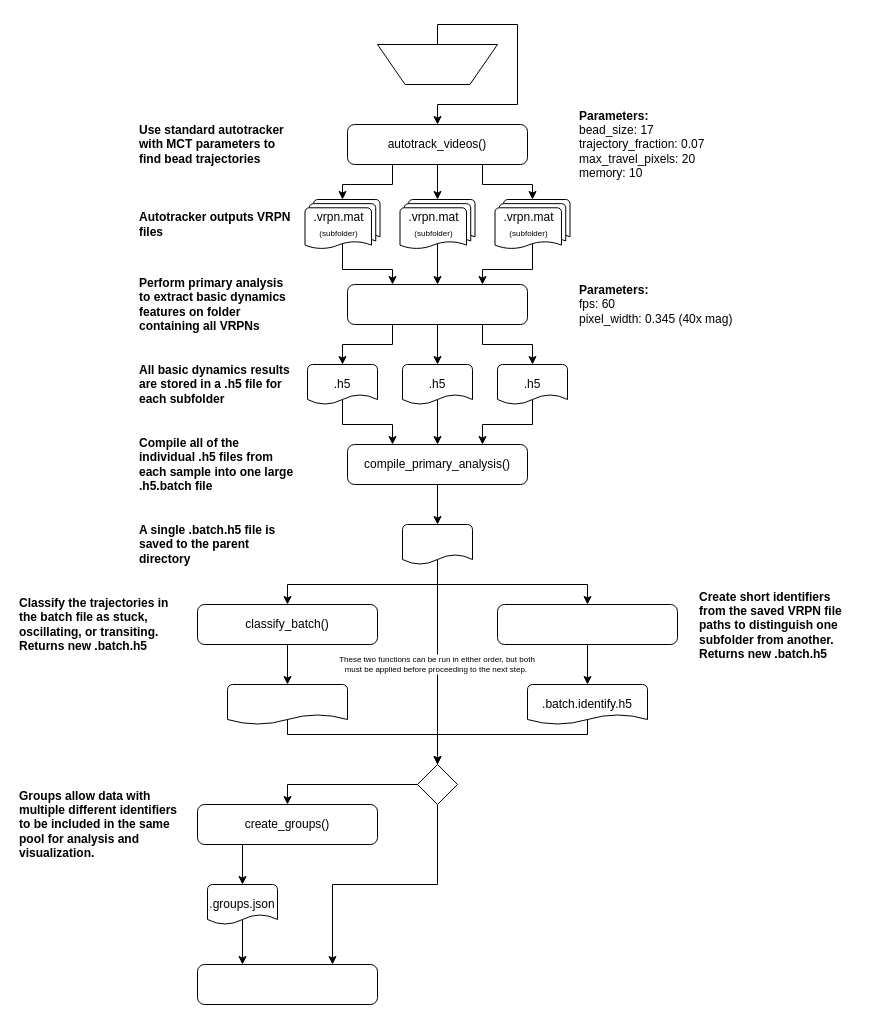
Image size: 874x1022. Some labels were removed from this diagram. The centre of each missing label's shape, as x and y in pixels:
.batch.classify.h5: the point at 287,704
.batch.h5: the point at 437,544
batch_primary_analysis(): the point at 437,304
create_identifiers(): the point at 587,624
next: the point at 287,984
Record videos via MATLAB: the point at 437,64
